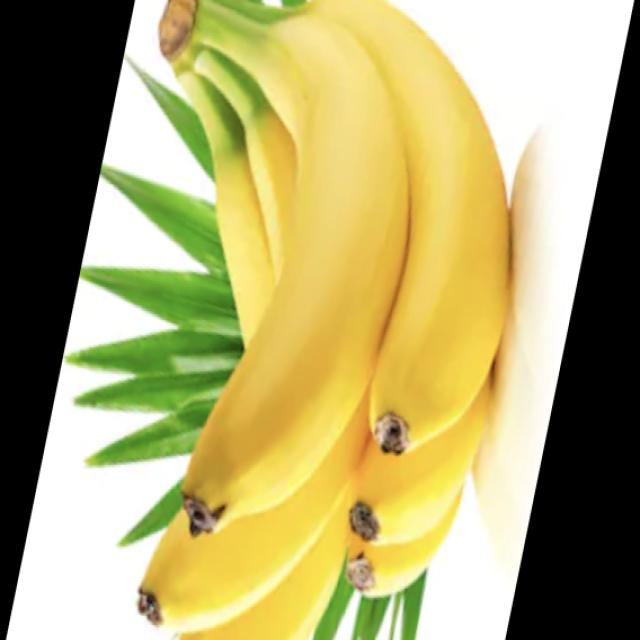god quality banana: (139, 0, 510, 639)
